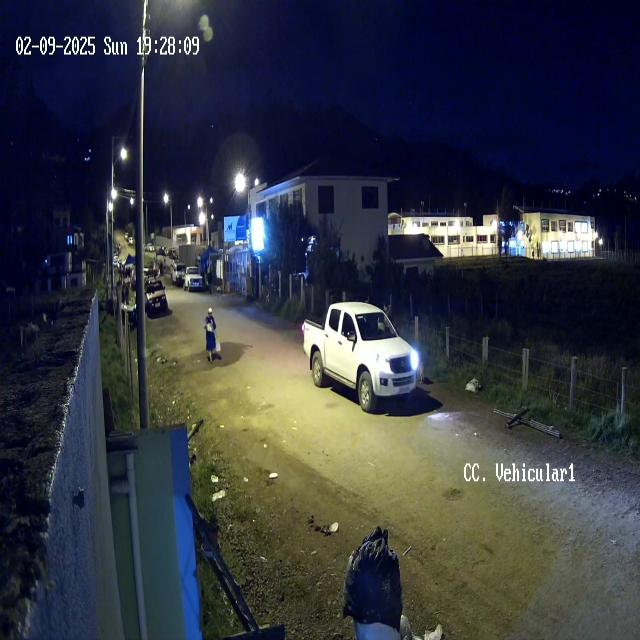CMT: (301, 301, 418, 414)
